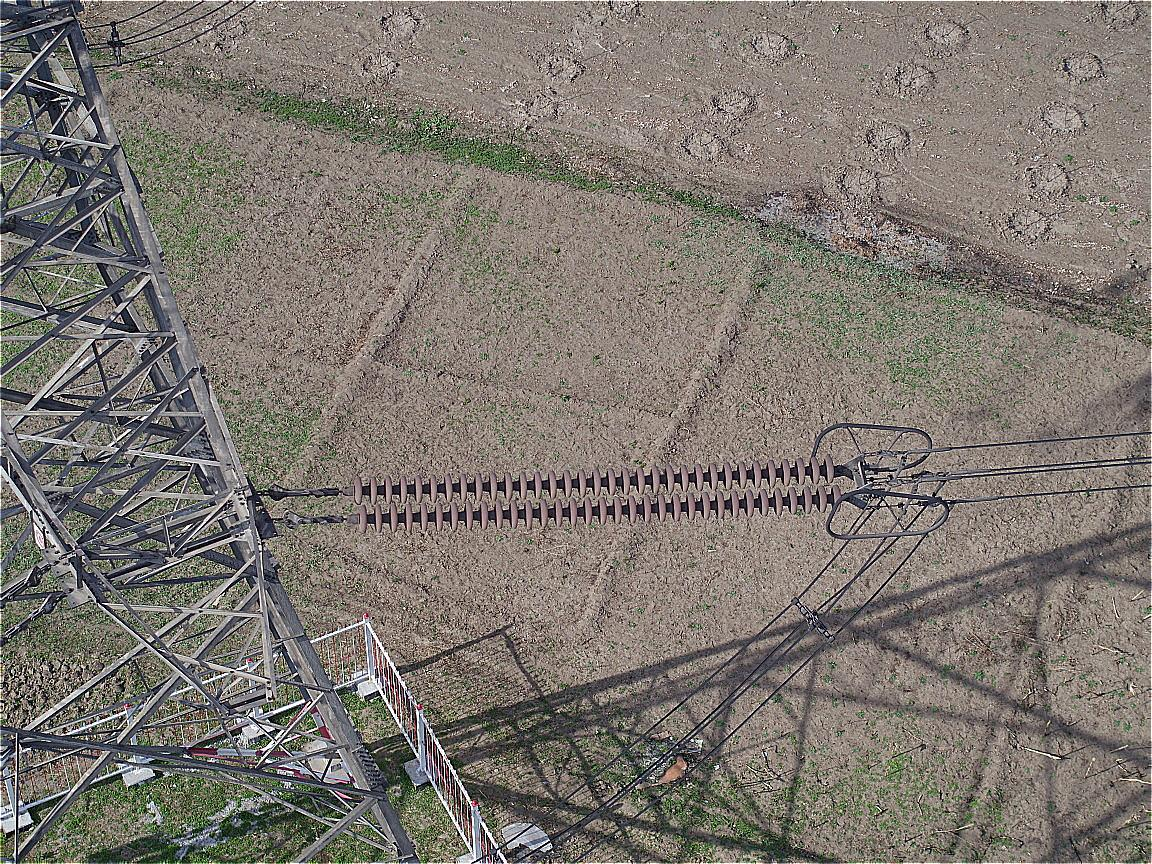insultor1: (329, 447, 857, 528)
